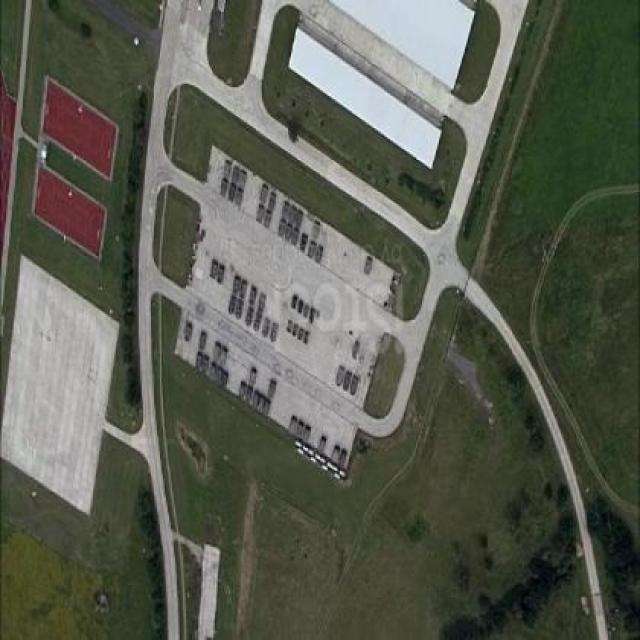tank: (294, 208, 305, 234), (269, 321, 280, 346), (211, 341, 222, 365), (280, 200, 291, 224), (248, 282, 258, 308), (290, 226, 300, 252), (277, 216, 287, 242), (306, 239, 317, 262), (259, 182, 270, 205), (310, 218, 322, 239), (335, 364, 345, 389), (228, 293, 237, 320), (288, 414, 299, 436), (255, 204, 266, 226), (183, 321, 193, 345), (209, 257, 219, 281), (238, 167, 248, 191), (284, 221, 294, 245), (244, 302, 253, 328), (234, 296, 243, 322), (238, 380, 248, 403), (218, 345, 228, 368), (220, 367, 230, 390), (363, 255, 373, 278), (350, 373, 359, 398), (343, 369, 352, 394), (253, 310, 262, 335), (227, 182, 236, 207), (352, 337, 361, 362), (195, 350, 204, 374), (330, 445, 340, 466), (248, 366, 258, 387), (314, 242, 323, 265), (234, 186, 243, 209), (267, 380, 277, 400), (198, 329, 206, 354), (262, 316, 270, 341), (268, 190, 276, 215), (208, 361, 217, 383), (300, 231, 308, 255), (232, 272, 240, 296), (240, 278, 248, 301), (220, 178, 228, 201), (223, 159, 231, 182), (262, 398, 271, 418), (257, 394, 266, 414), (244, 386, 253, 406), (216, 264, 224, 286), (258, 292, 266, 314), (202, 354, 209, 379), (289, 204, 296, 229), (264, 208, 271, 232), (231, 165, 238, 189), (318, 436, 327, 454), (285, 317, 294, 335), (339, 450, 347, 470), (296, 420, 304, 440), (252, 390, 260, 410), (297, 297, 305, 317), (296, 324, 304, 343), (291, 293, 299, 312), (216, 366, 223, 387), (303, 426, 311, 444), (309, 306, 316, 326), (291, 322, 299, 338), (303, 329, 310, 346), (304, 302, 310, 320)
